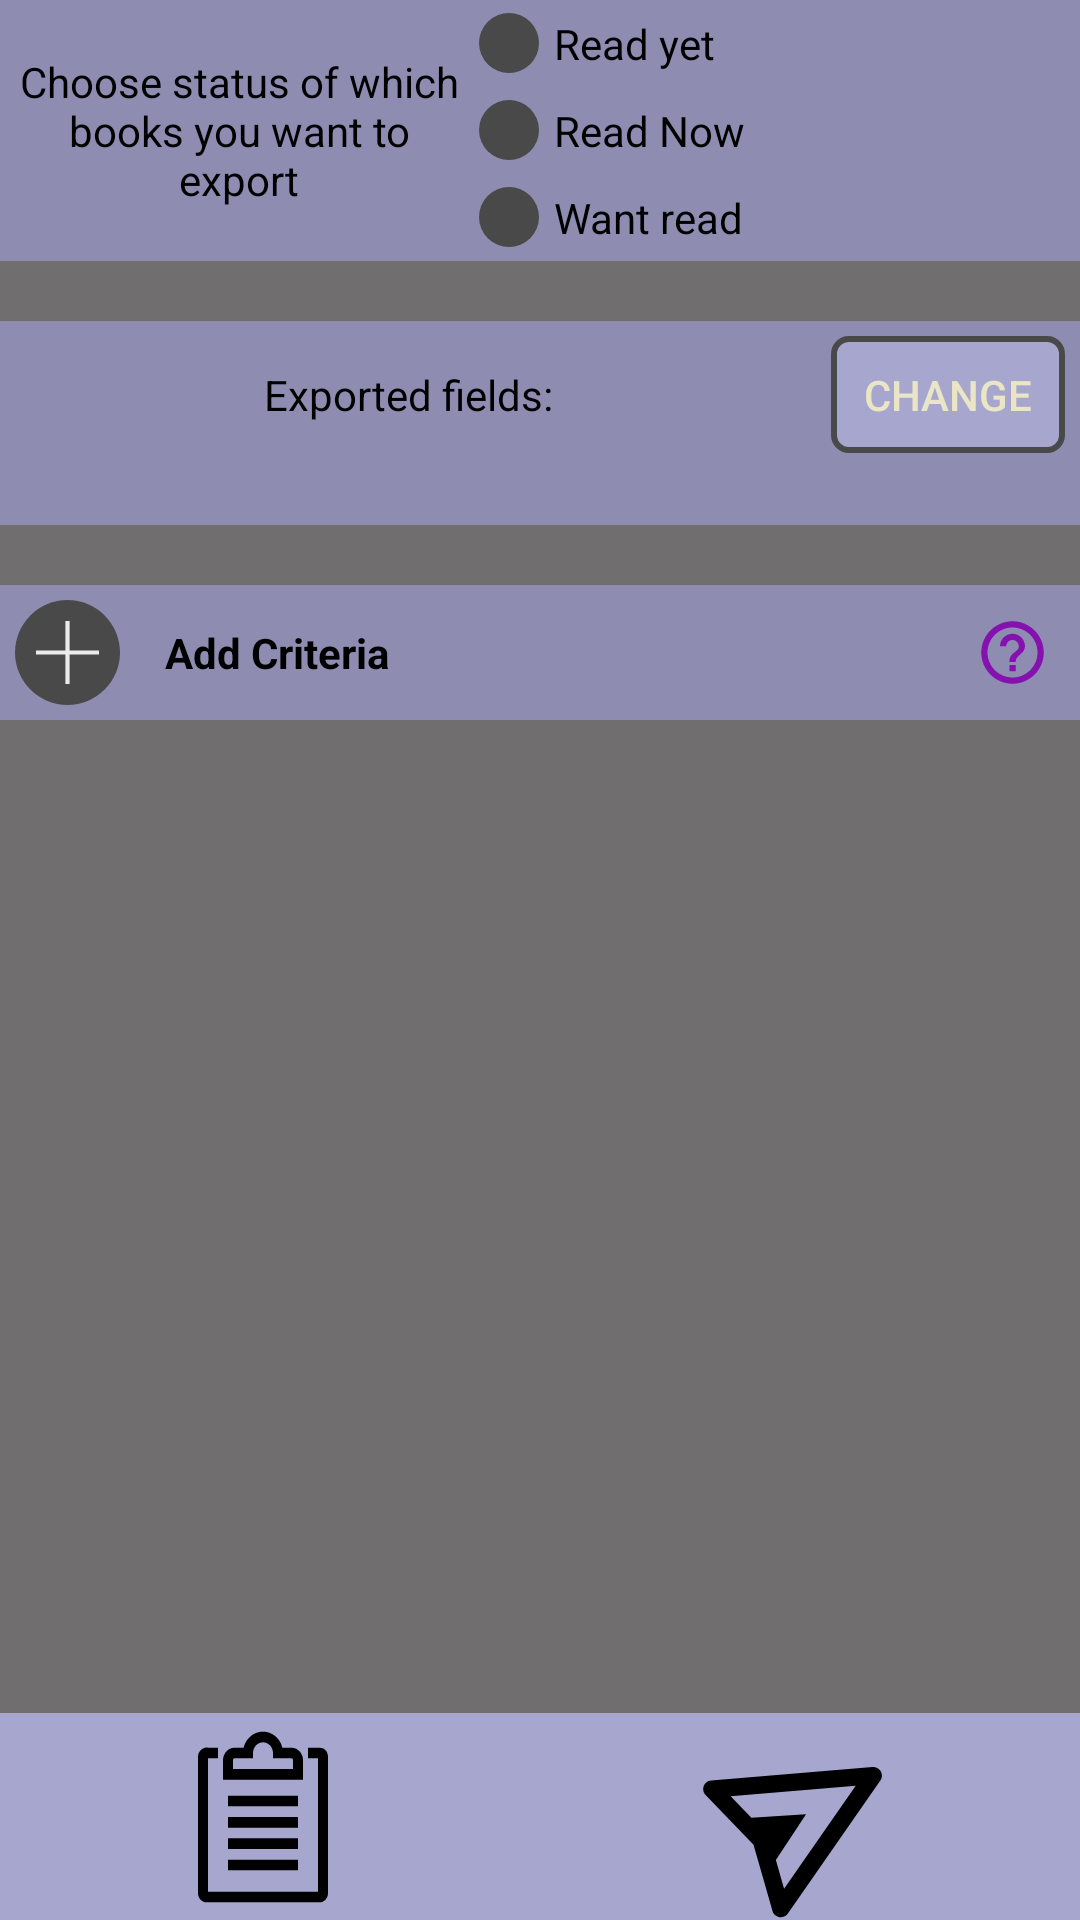

Icons on this 1080px x 1920px Android screen, each with its box as (x1, y1, x2, y2):
clipboard: (198, 1731, 328, 1903)
help: (981, 621, 1044, 684)
send: (703, 1767, 882, 1918)
